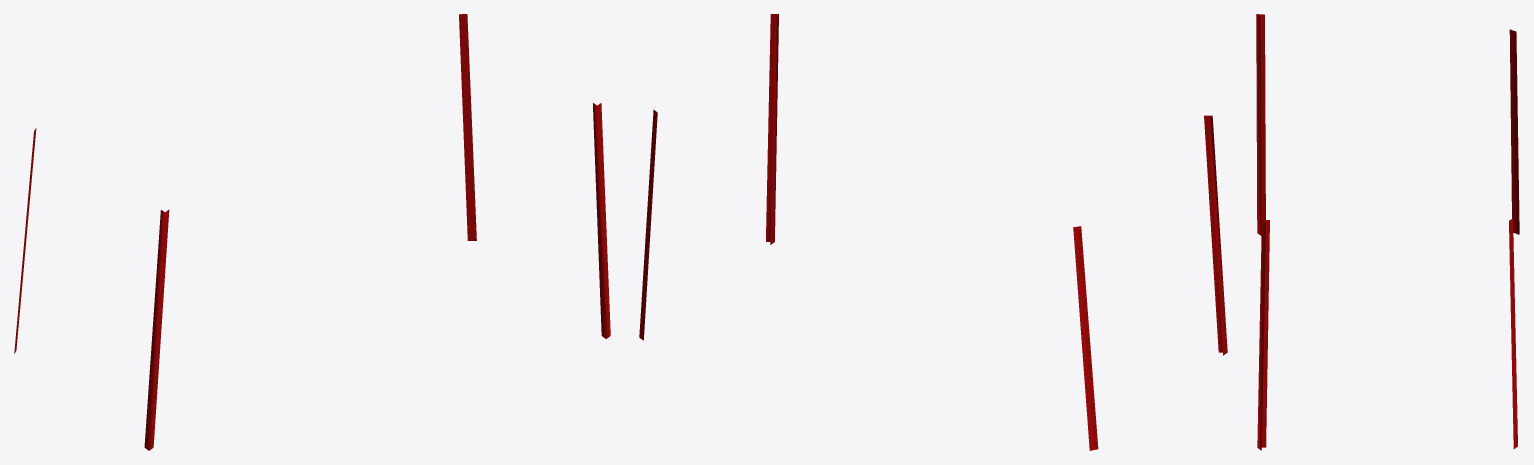
The model's file is canopy_5.glb.
3 views of the same model, side by side, from view 1: azimuth 30°, elevation 25°; view 2: azimuth 150°, elevation 25°; view 3: azimuth 270°, elevation 25° (orthographic). The views are drawn at different scales.
Parts seen in each view (by area): view 1: MODEL_s_bazaar_lod0; view 2: MODEL_s_bazaar_lod0; view 3: MODEL_s_bazaar_lod0.
Part boxes in pixels (x1=…): MODEL_s_bazaar_lod0: x1=14, y1=14, x2=610, y2=450; MODEL_s_bazaar_lod0: x1=639, y1=14, x2=1227, y2=450; MODEL_s_bazaar_lod0: x1=1256, y1=14, x2=1519, y2=450.
Bounding box in the file's own units: 2.04 × 0.9834 × 1.04.
